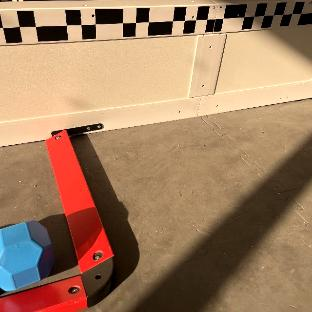V5_BLUE: (0, 221, 53, 291)
